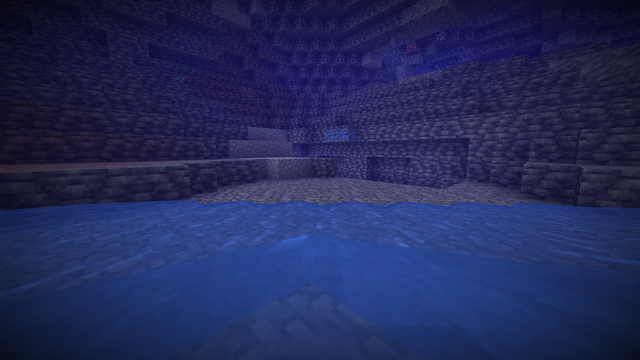diamond: (171, 71, 188, 86)
lapis: (323, 126, 357, 144)
redstone: (403, 34, 420, 55)
